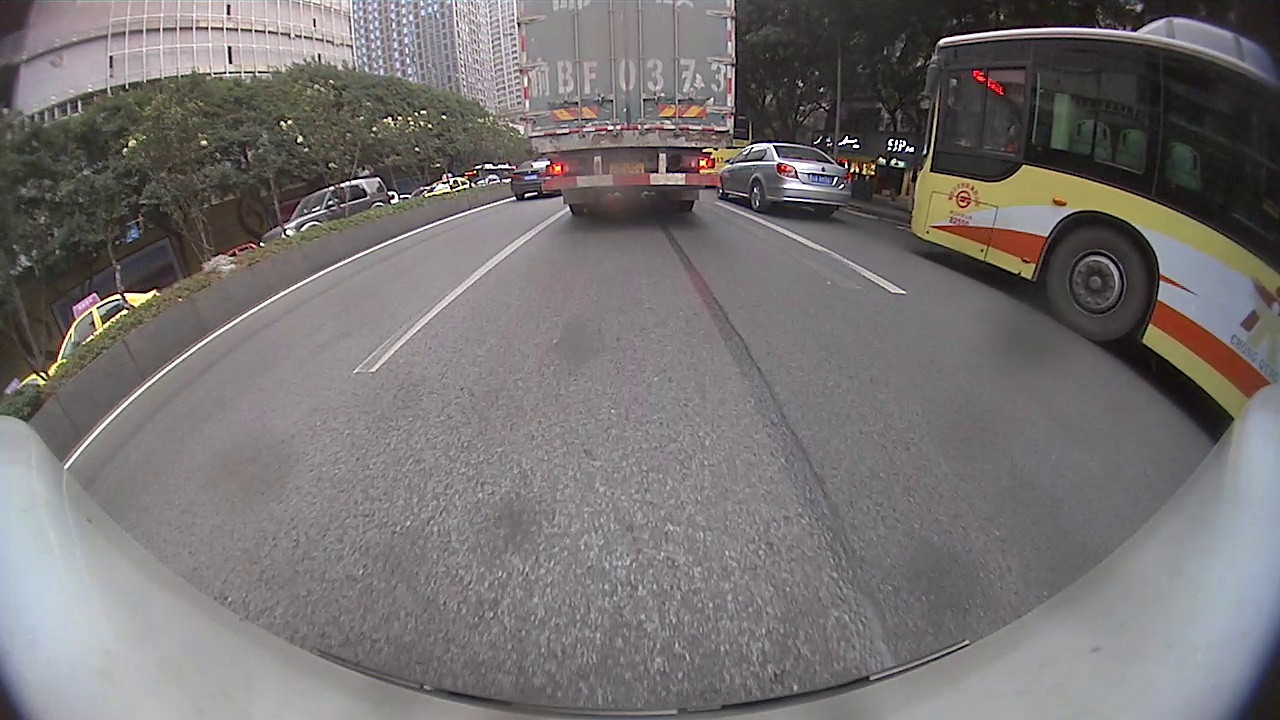bus: (905, 19, 1277, 419)
car: (720, 143, 855, 219), (509, 159, 564, 198)
front: (1043, 222, 1152, 343)
rear: (751, 180, 767, 214)
truck: (517, 2, 734, 214)
